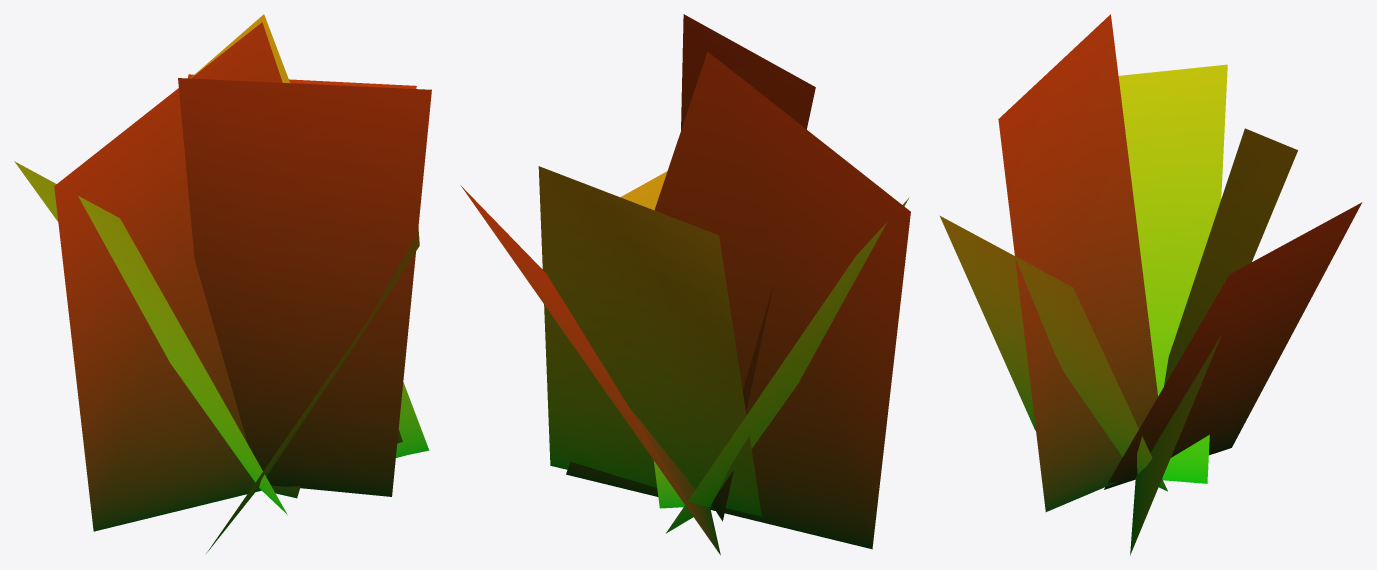
File: Seaweed_LOD2_Var10_sdpjN.fbx
3 renders of one model, left to right at view 1: azimuth 30°, elevation 25°; view 2: azimuth 150°, elevation 25°; view 3: azimuth 270°, elevation 25°, orthographic. The views are drawn at different scales.
Parts seen in each view (by area): view 1: _a55f_Var10_LOD2; view 2: _a55f_Var10_LOD2; view 3: _a55f_Var10_LOD2.
Boxes of the visible parts, x1,y1,x2,y2 form: _a55f_Var10_LOD2: (14,14,431,553); _a55f_Var10_LOD2: (460,14,910,555); _a55f_Var10_LOD2: (939,14,1362,555).
Size of the model in its own units: 17.28 by 18.77 by 16.2.
